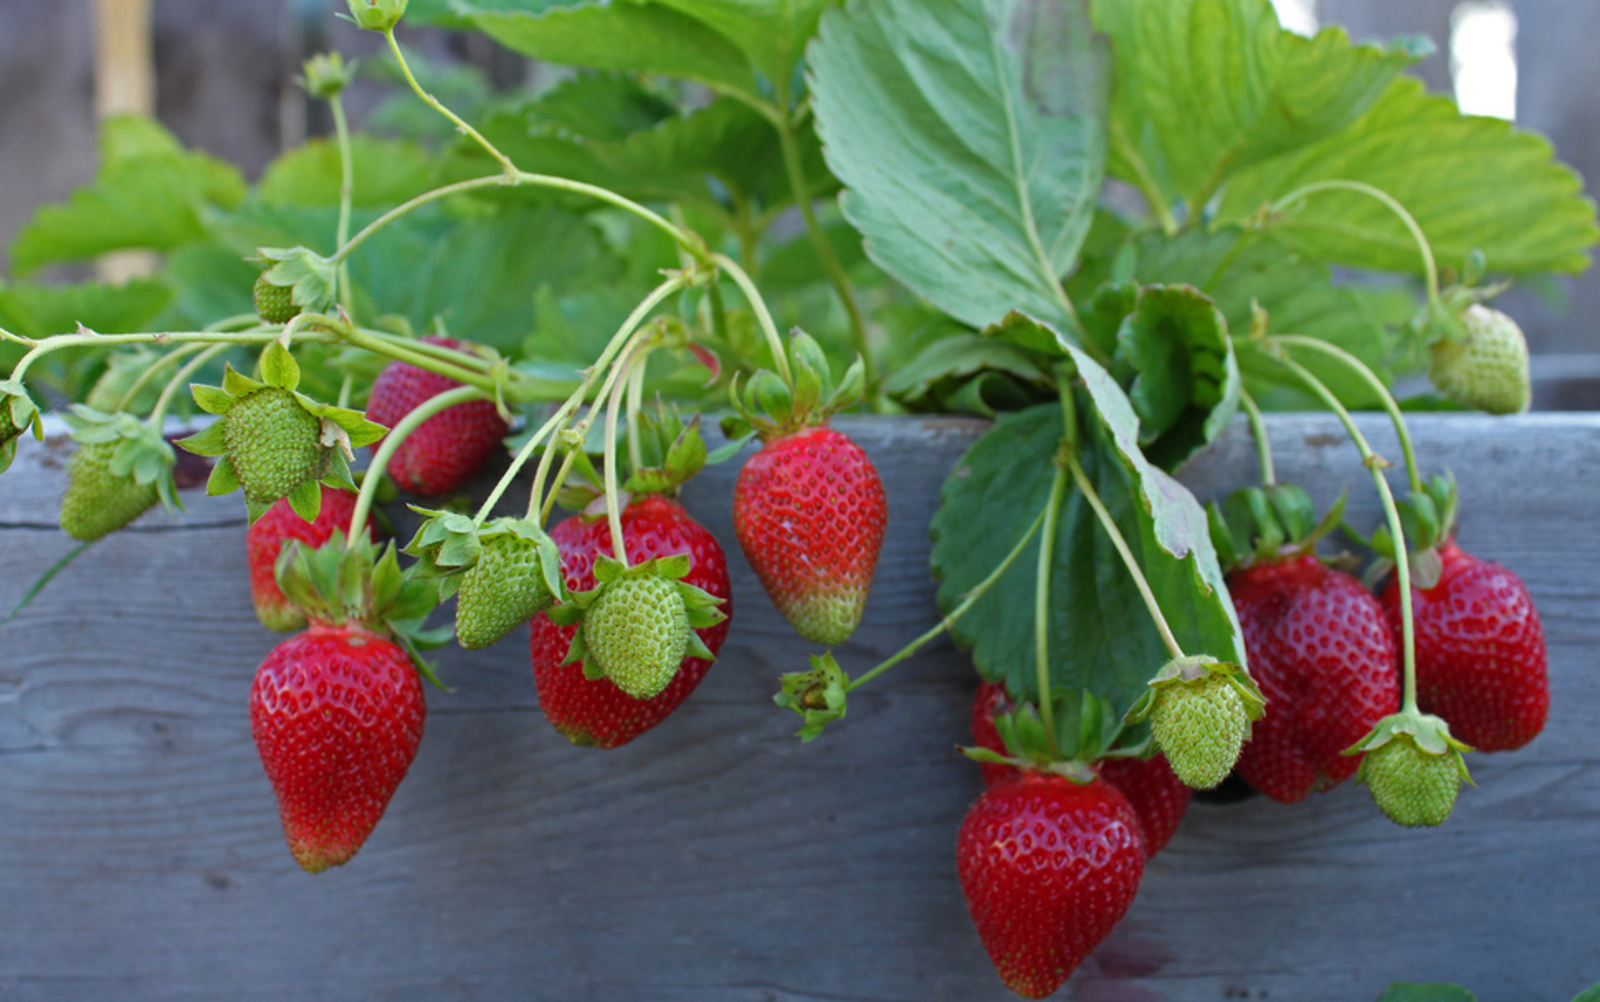green_strawberry: (222, 383, 351, 509), (1145, 656, 1259, 788), (1358, 703, 1473, 830), (576, 577, 700, 694), (449, 518, 560, 646), (58, 425, 173, 533), (1435, 307, 1537, 423), (253, 257, 349, 326)
red_strawberry: (955, 784, 1145, 994), (254, 630, 424, 863), (1371, 536, 1555, 746), (1234, 549, 1395, 784), (739, 423, 885, 648), (996, 676, 1166, 845), (551, 495, 722, 613), (376, 344, 492, 491), (246, 496, 357, 618)
